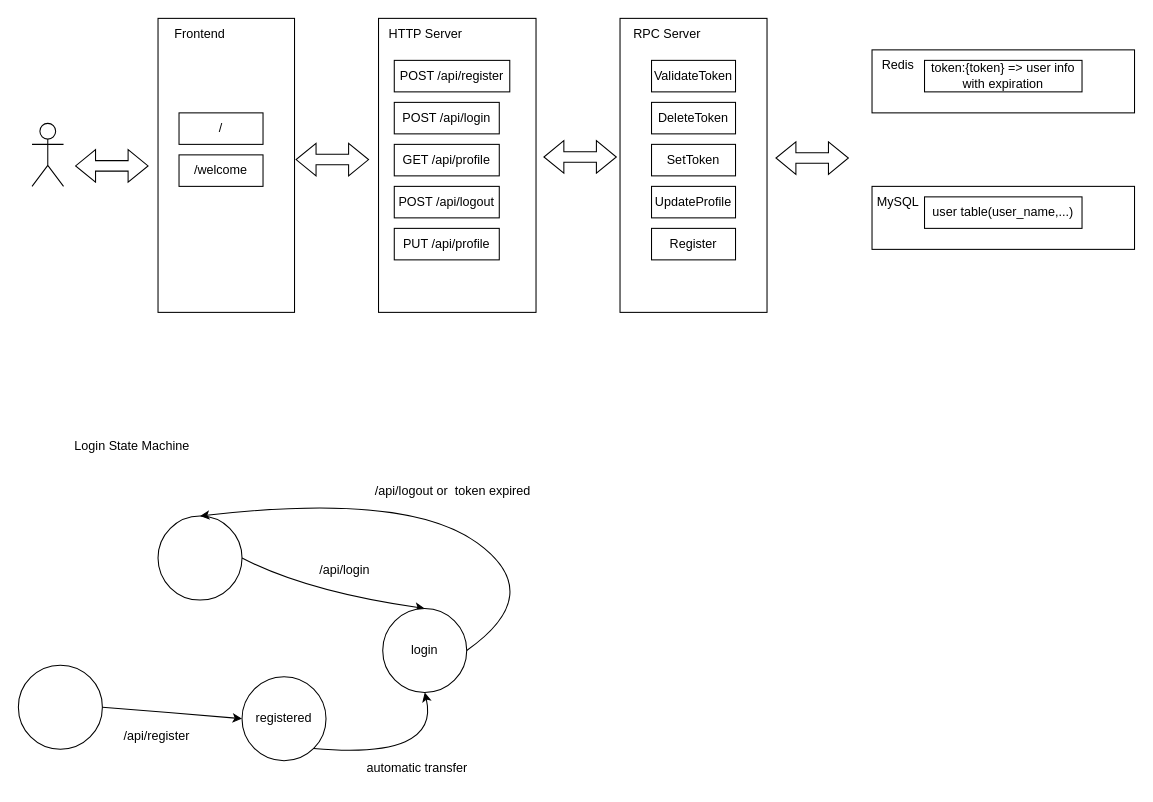
The diagram is 1153 pixels wide and 802 high, and some of its shapes have lost their labels. The shapes that lost their labels are listed below. From the top down, each one's centre as x and y in pixels, then its label:
At (47,154): "user".
At (199,557): "not login".
At (59,706): "not registered".
